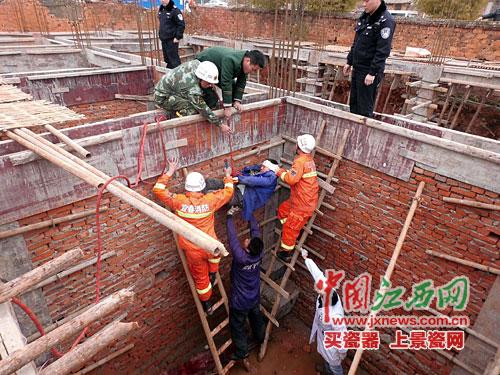helmet: (195, 61, 221, 87), (184, 173, 208, 194), (298, 133, 316, 155)
